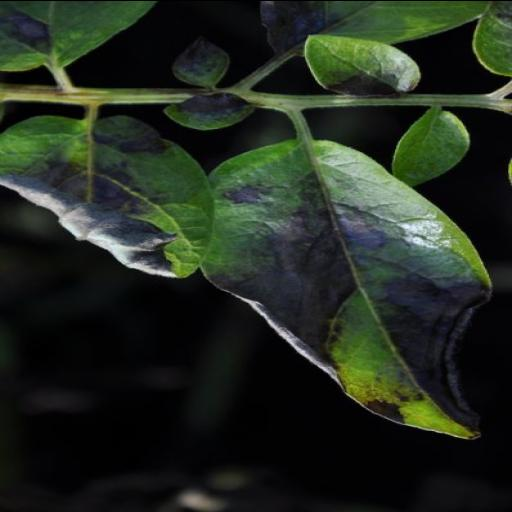disease_tomato: (180, 134, 488, 444), (2, 112, 228, 282), (298, 32, 424, 98), (156, 88, 254, 132), (170, 29, 238, 87)
